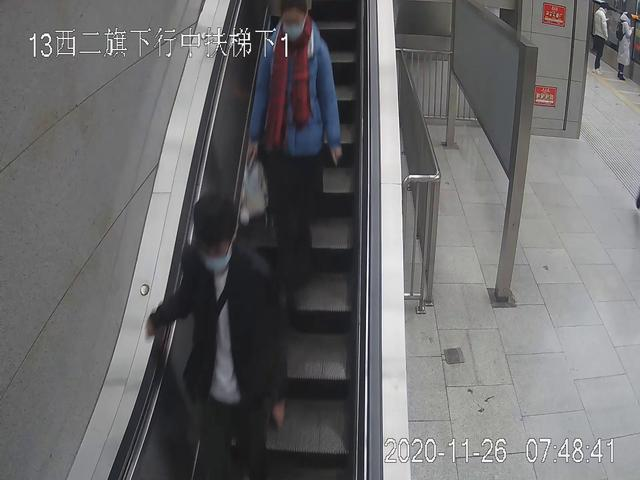person: (163, 200, 287, 480), (249, 4, 342, 276), (614, 12, 638, 84), (591, 4, 609, 76)
